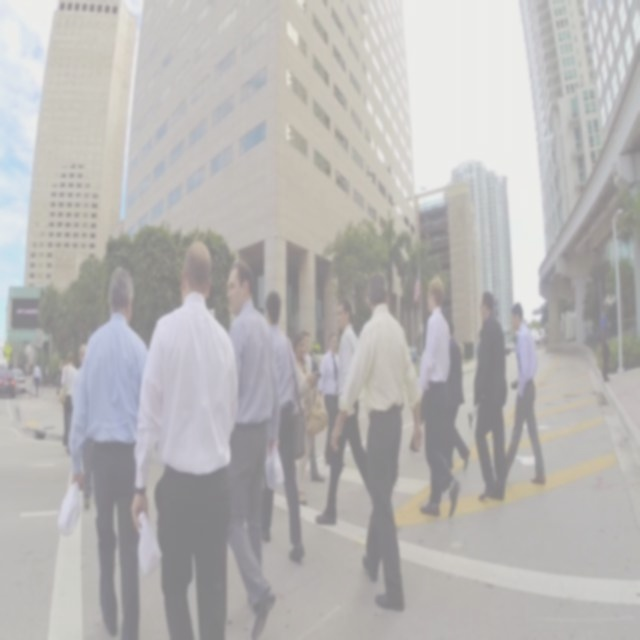pessoa: (131, 237, 239, 639), (329, 268, 424, 615), (66, 265, 150, 639), (225, 258, 282, 638), (314, 296, 374, 528), (262, 289, 306, 562), (418, 274, 462, 522), (497, 300, 546, 486), (472, 289, 508, 503), (292, 332, 331, 508), (444, 318, 472, 476), (300, 328, 326, 484), (316, 331, 342, 466), (58, 349, 78, 456), (70, 341, 88, 407), (595, 303, 610, 382), (82, 440, 98, 510), (32, 361, 42, 398), (55, 358, 64, 396), (475, 327, 483, 365), (312, 338, 321, 353), (540, 334, 542, 346)
